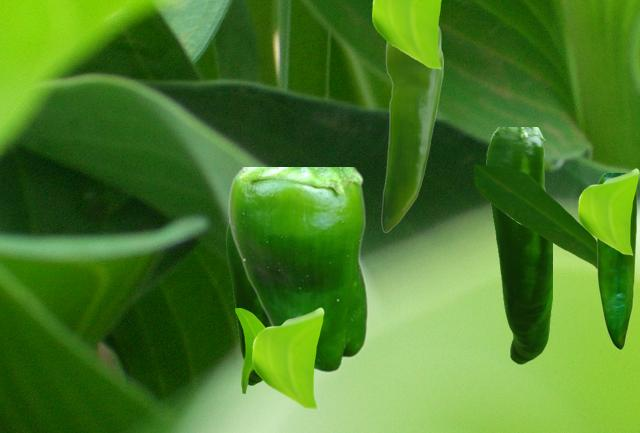green_chili: (227, 167, 367, 372), (486, 127, 551, 363), (381, 25, 442, 231), (226, 223, 270, 384), (596, 173, 636, 348)
